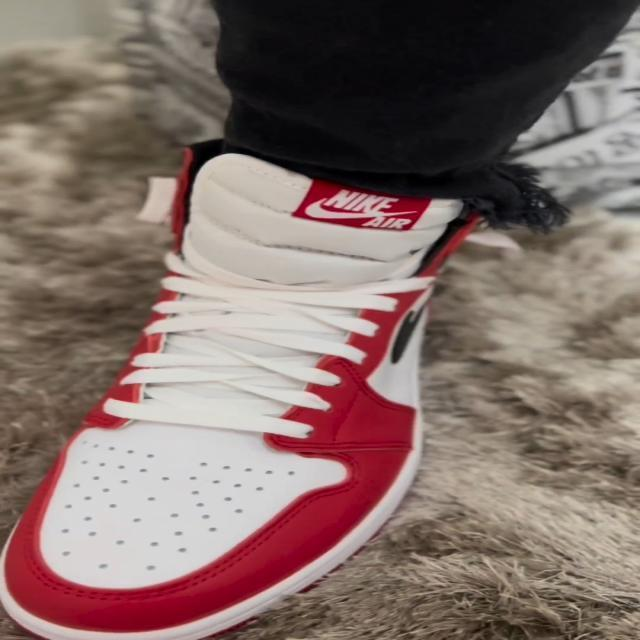nike original jordan 1: (11, 145, 457, 640)
